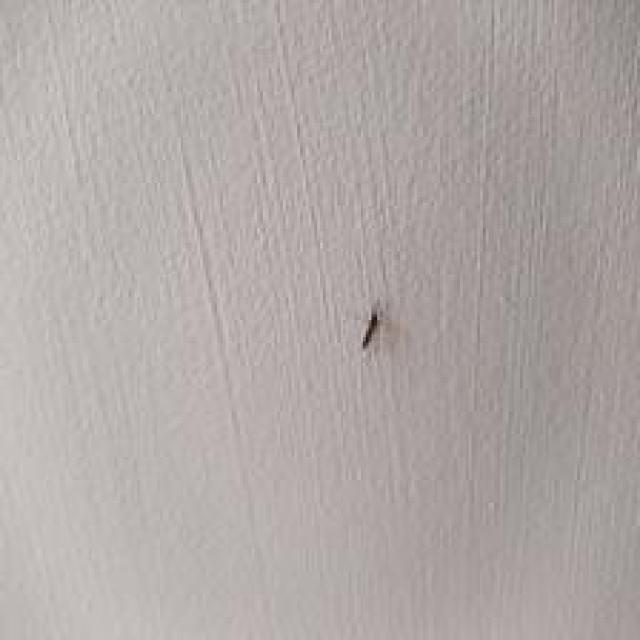Culex: (360, 310, 380, 350)
